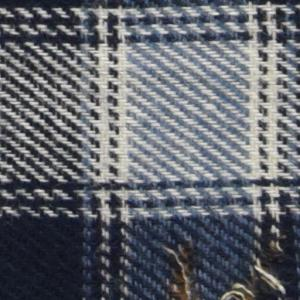Damage: (221, 235, 290, 300)
Oil Stain: (235, 219, 296, 300), (161, 233, 209, 300)
